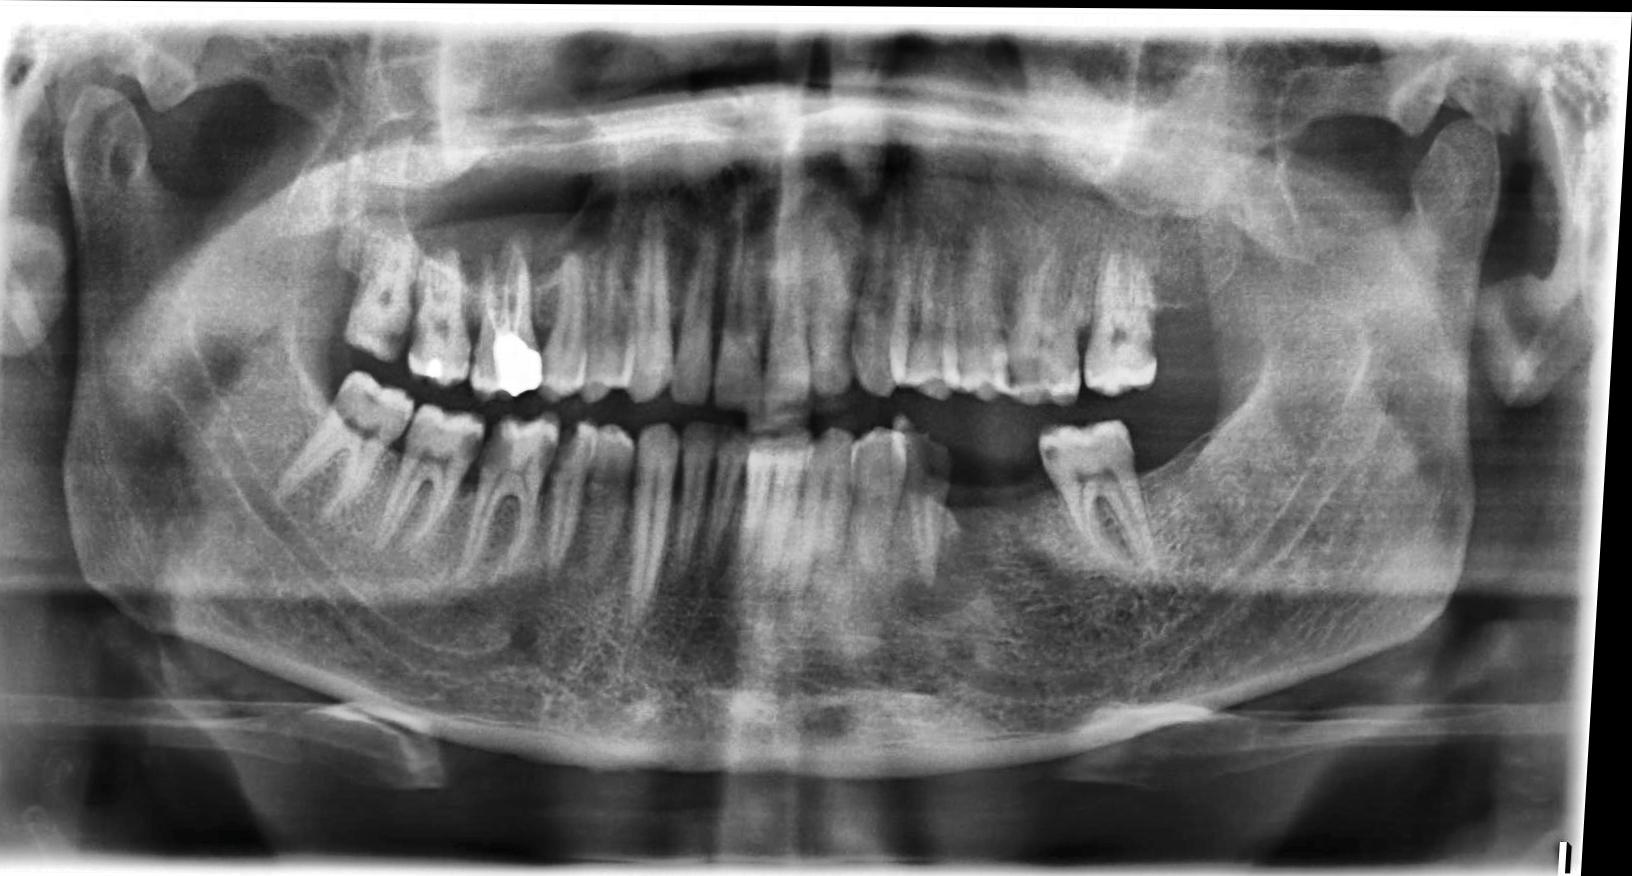radikuler: (399, 77, 628, 298), (895, 527, 1001, 631)
